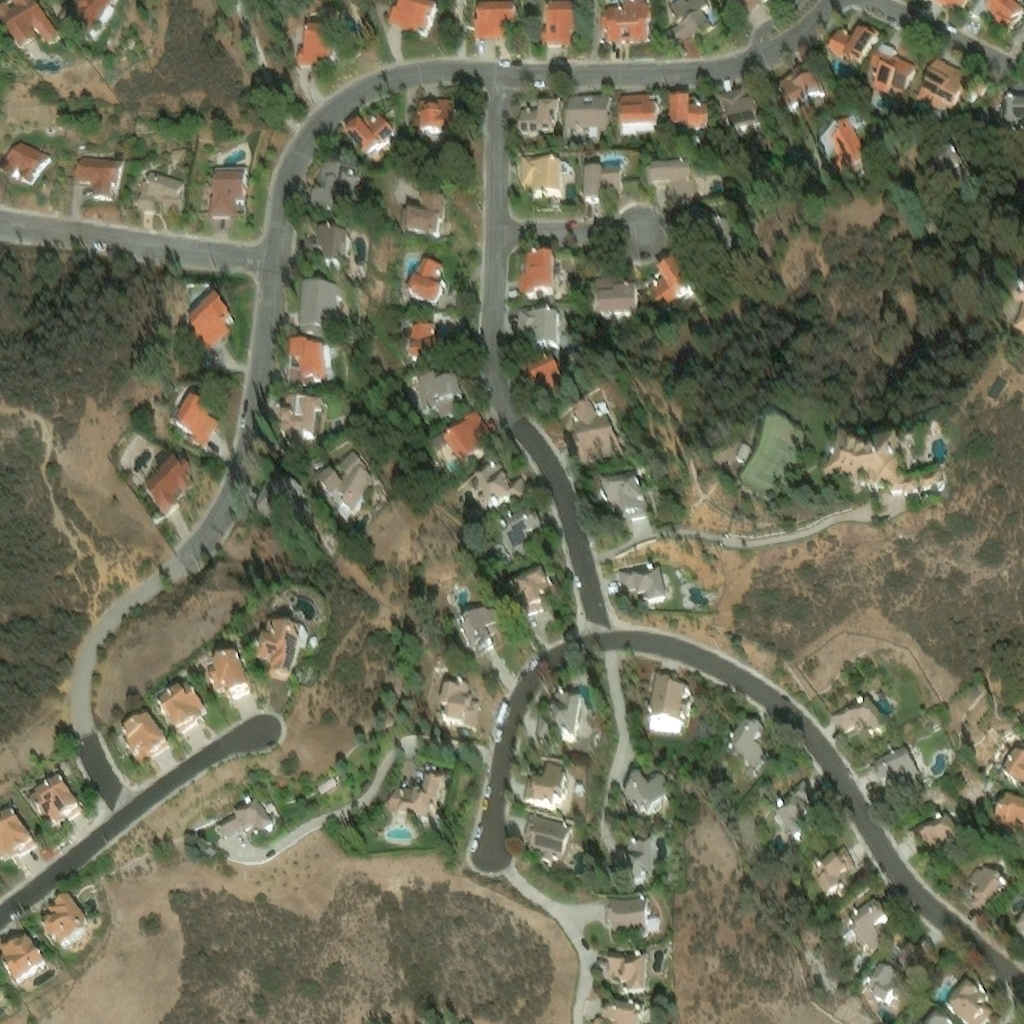0 no-damage: (819, 424, 950, 498), (385, 773, 447, 836), (425, 409, 492, 466), (917, 60, 989, 113), (570, 401, 623, 468), (814, 118, 870, 181), (321, 462, 378, 522), (141, 459, 196, 519), (258, 627, 312, 685), (648, 673, 694, 739), (40, 894, 91, 953), (173, 400, 226, 456), (27, 777, 83, 830), (519, 154, 576, 205), (0, 0, 60, 48), (921, 146, 979, 195), (772, 781, 818, 842), (498, 510, 549, 565), (155, 685, 207, 738), (562, 87, 610, 144), (311, 167, 364, 218), (215, 798, 275, 843), (408, 368, 463, 417), (662, 0, 717, 49), (299, 288, 347, 344), (3, 146, 55, 197), (257, 482, 310, 532), (715, 85, 763, 140), (132, 175, 188, 222), (475, 463, 531, 510), (830, 695, 889, 739), (515, 305, 573, 349), (872, 747, 922, 798), (188, 301, 236, 354), (624, 830, 672, 883), (870, 43, 918, 96), (122, 714, 170, 766), (0, 936, 48, 988), (533, 697, 587, 743), (844, 899, 890, 953), (909, 811, 963, 857), (604, 894, 663, 936), (725, 719, 770, 774), (826, 22, 881, 67), (343, 113, 394, 161), (77, 160, 126, 208), (305, 235, 353, 284), (776, 61, 825, 109), (965, 865, 1010, 917), (434, 682, 483, 729), (521, 759, 567, 809), (676, 206, 733, 246), (462, 610, 505, 663), (646, 256, 690, 307), (623, 771, 673, 815), (512, 572, 555, 623), (616, 564, 667, 607), (398, 192, 450, 234), (284, 403, 328, 452), (205, 654, 252, 699), (291, 344, 336, 391), (517, 93, 561, 141), (209, 177, 252, 226), (813, 848, 856, 897), (988, 82, 1023, 141), (616, 89, 659, 137), (604, 949, 648, 995), (600, 471, 646, 515), (596, 0, 650, 37), (591, 274, 637, 317), (416, 95, 458, 142), (647, 164, 694, 205), (396, 311, 439, 355), (527, 809, 572, 851), (667, 92, 709, 137), (403, 251, 442, 299), (72, 0, 121, 38), (0, 809, 35, 862), (948, 984, 995, 1023), (296, 21, 335, 68), (518, 251, 555, 298), (523, 356, 564, 398), (382, 0, 435, 30), (536, 0, 576, 39), (466, 0, 513, 31), (583, 167, 622, 204), (865, 964, 900, 1005), (969, 0, 1022, 26), (992, 792, 1023, 835), (598, 1000, 645, 1023), (1000, 741, 1023, 786), (1009, 279, 1023, 330), (317, 779, 344, 799), (921, 0, 965, 12), (990, 379, 1008, 404), (264, 803, 282, 822), (735, 443, 752, 463), (1009, 23, 1023, 44), (430, 766, 453, 778), (927, 1013, 948, 1023), (738, 0, 756, 8), (573, 782, 585, 793)
